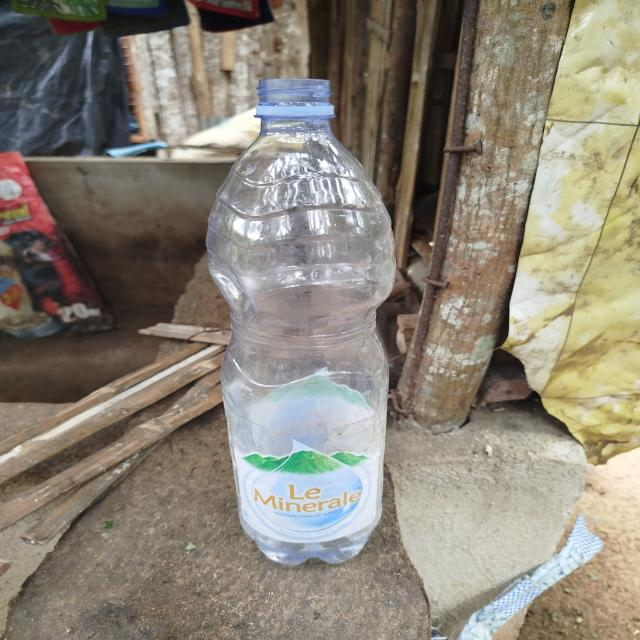plastic: (183, 54, 434, 574)
